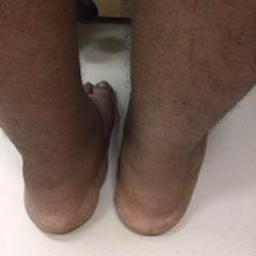Back View -Both Feet-: (5, 60, 235, 245)
